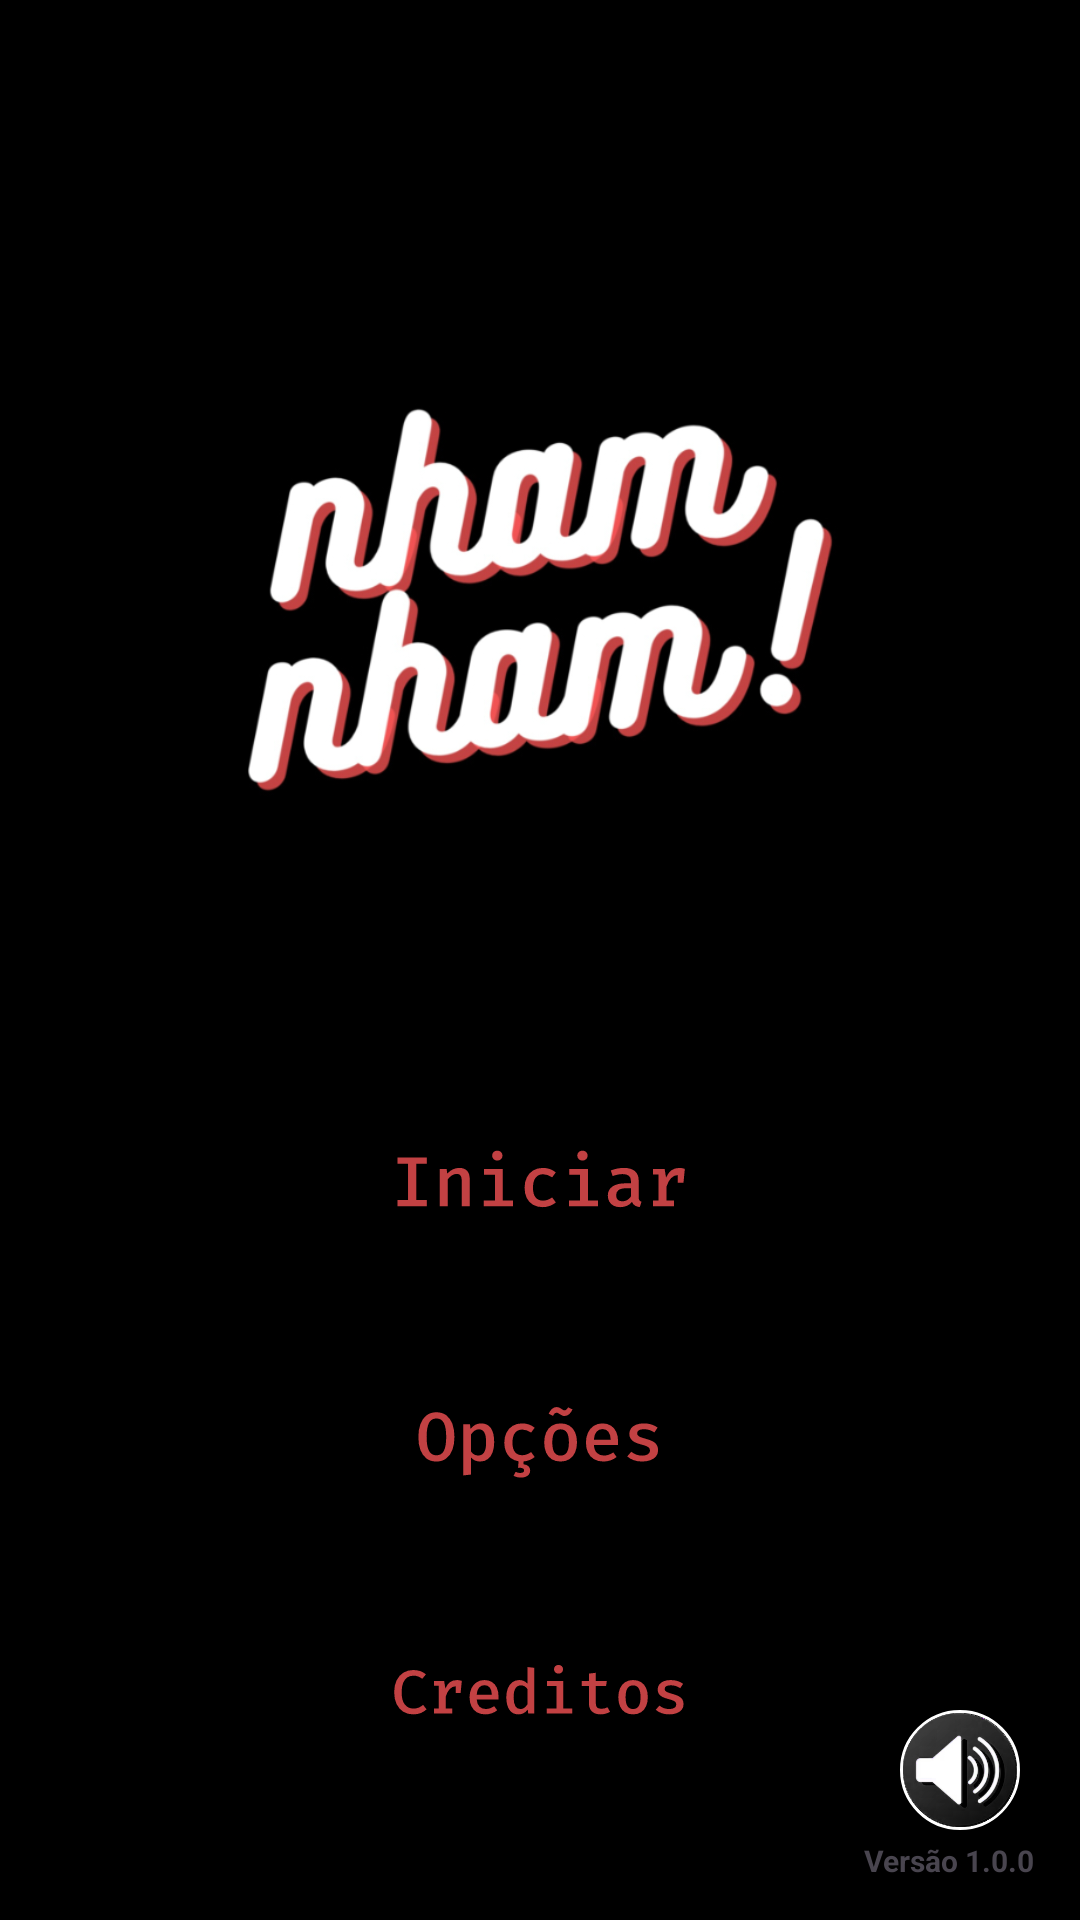

Locate icon controls on the screen. Image size 1080 x 1920, boxes as (x1, y1, x2, y2).
unmuted: (900, 1710, 1020, 1830)
